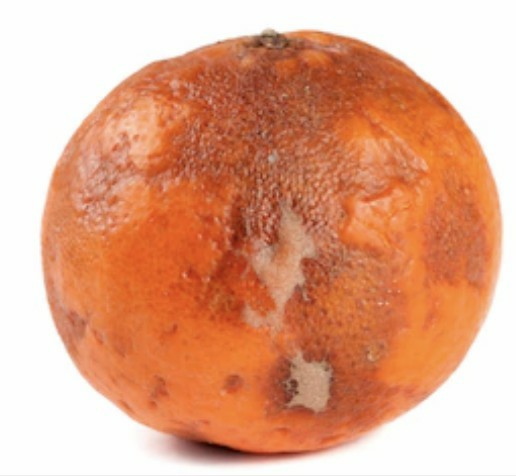rotten_orange: (36, 27, 511, 452)
